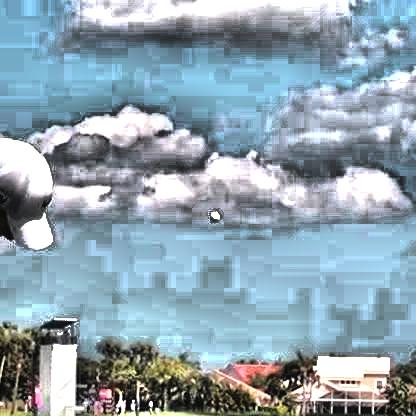golfball: (206, 207, 217, 219)
